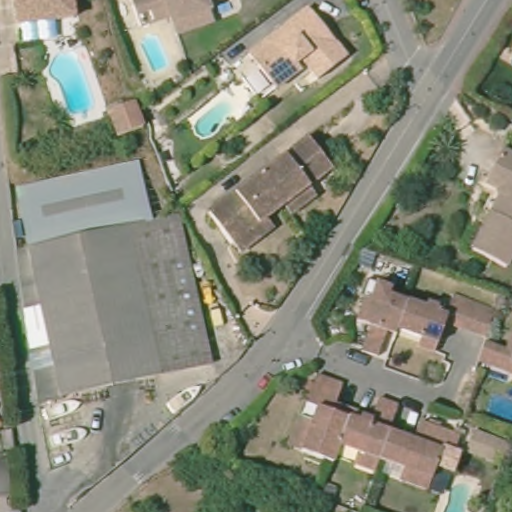pool: (43, 48, 105, 120), (186, 96, 237, 142), (138, 31, 176, 75), (446, 475, 479, 512), (487, 385, 512, 424)
